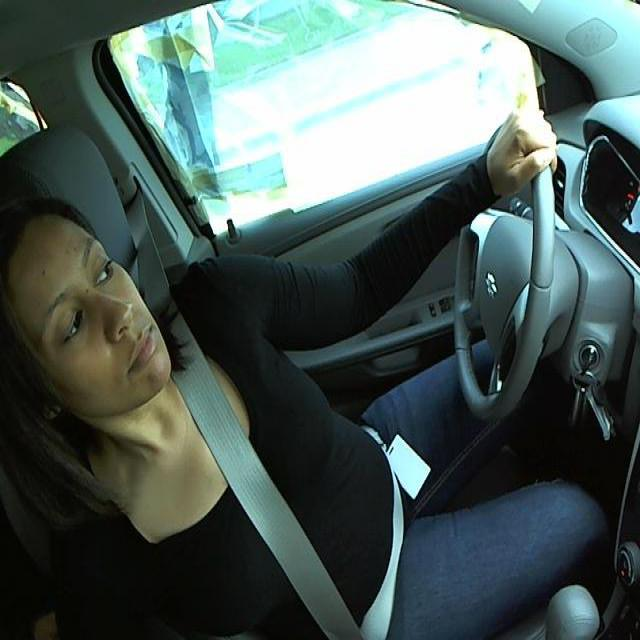seatbelt: (159, 322, 416, 630)
